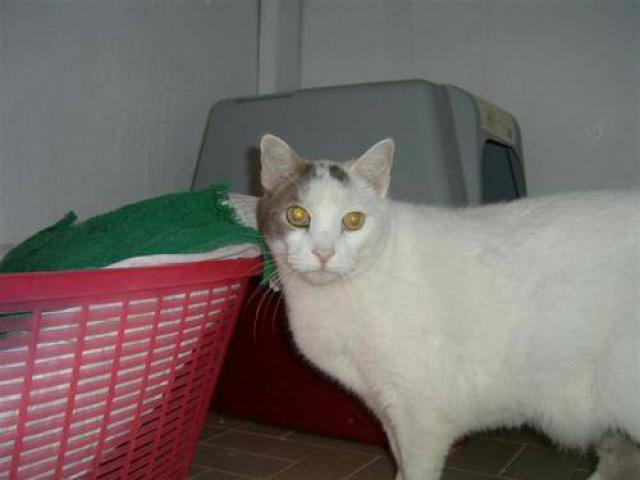cat: (223, 112, 640, 476)
